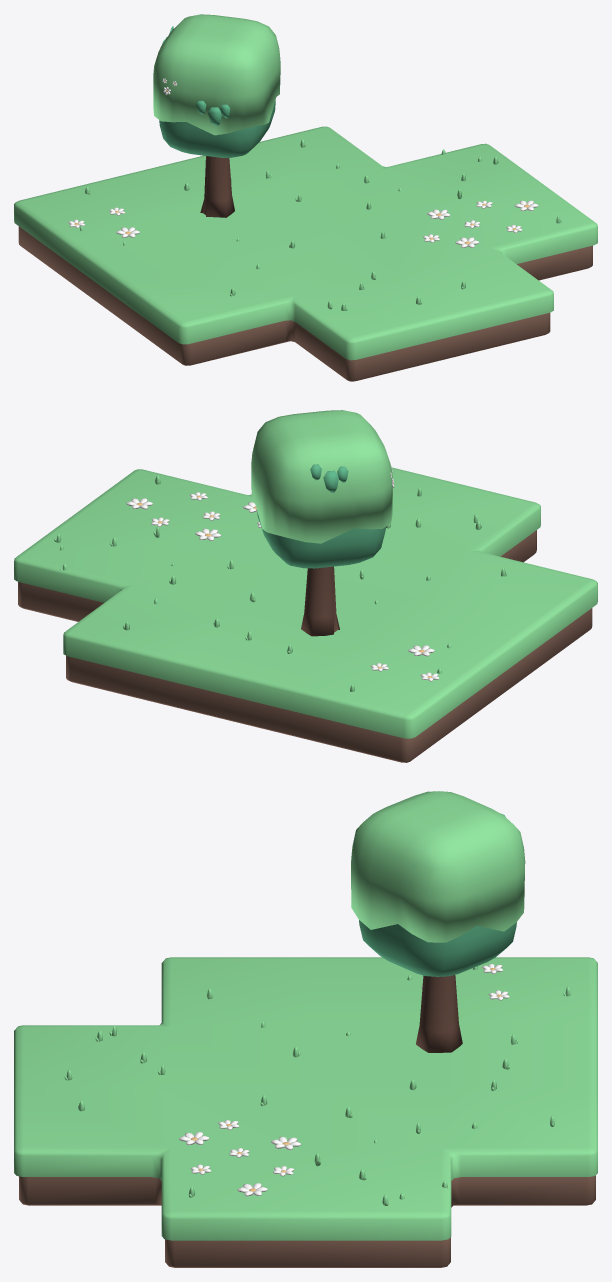
File: diorama.glb
The picture shows the model from 3 angles, top to bottom: view 1: azimuth 30°, elevation 25°; view 2: azimuth 150°, elevation 25°; view 3: azimuth 270°, elevation 25°; orthographic projection. The views are drawn at different scales.
Visible parts, largest first — view 1: Plane; view 2: Plane; view 3: Plane.
Boxes of the visible parts, x1,y1,x2,y2 form: Plane: [14, 14, 597, 381]; Plane: [14, 410, 597, 762]; Plane: [14, 791, 597, 1267].
Size of the model in its own units: 36.3 by 18.77 by 34.41.
